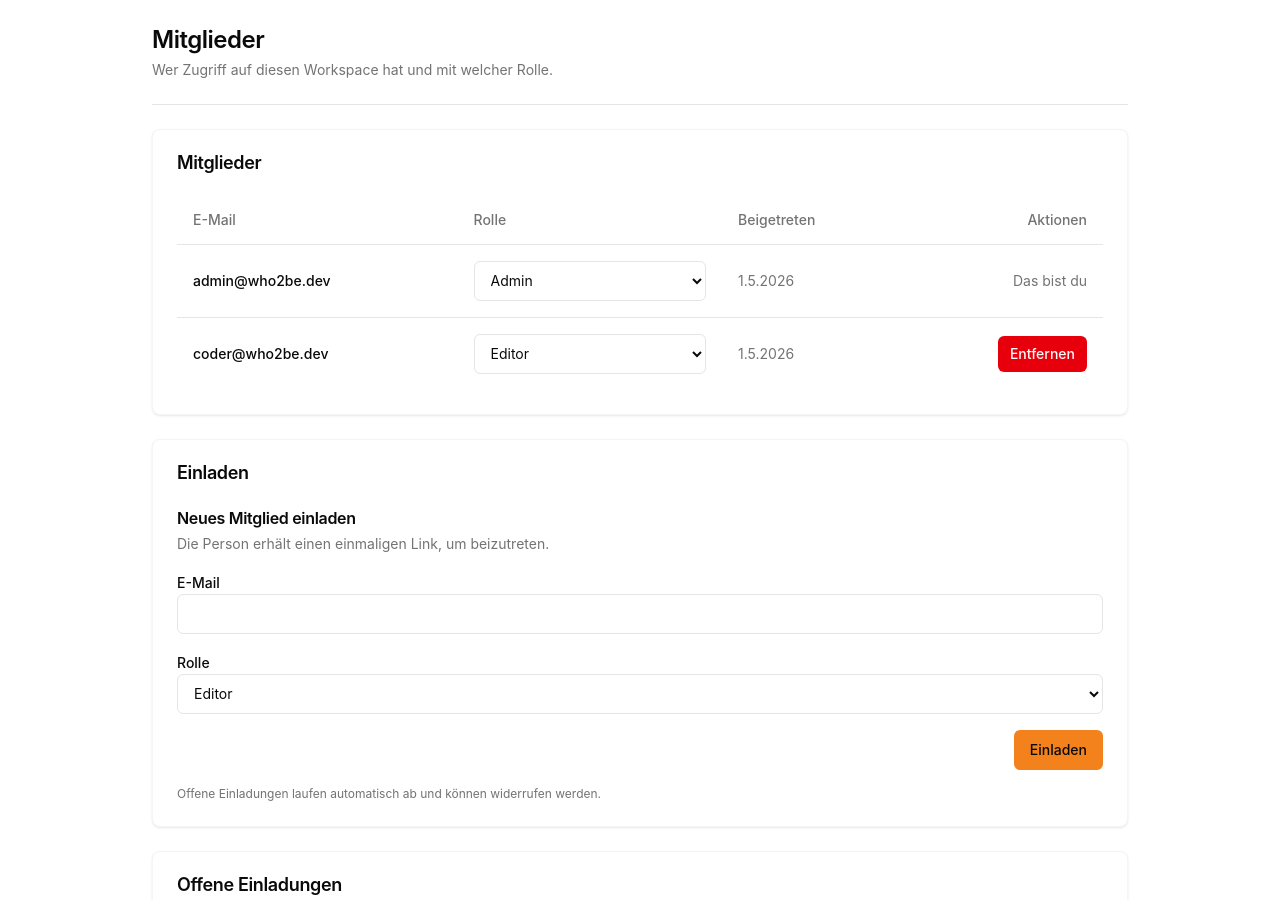
MembersPage — Mitglied entfernen › Abbrechen entfernt nicht
Step 1. Click the button "Entfernen" → (1042, 354), box [998,336,1087,372]
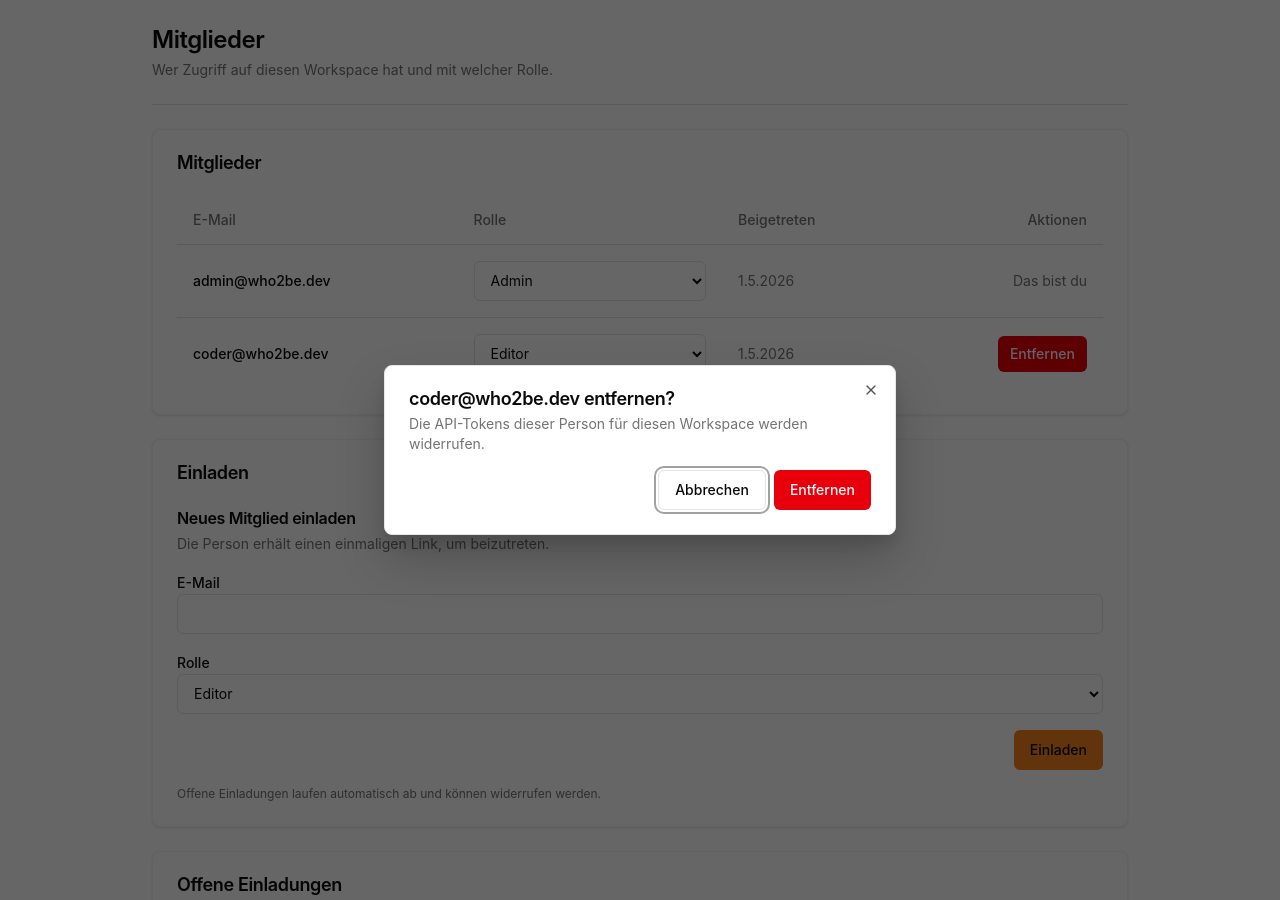
Step 2. Click the button "Abbrechen" → (712, 490), box [658,470,766,510]
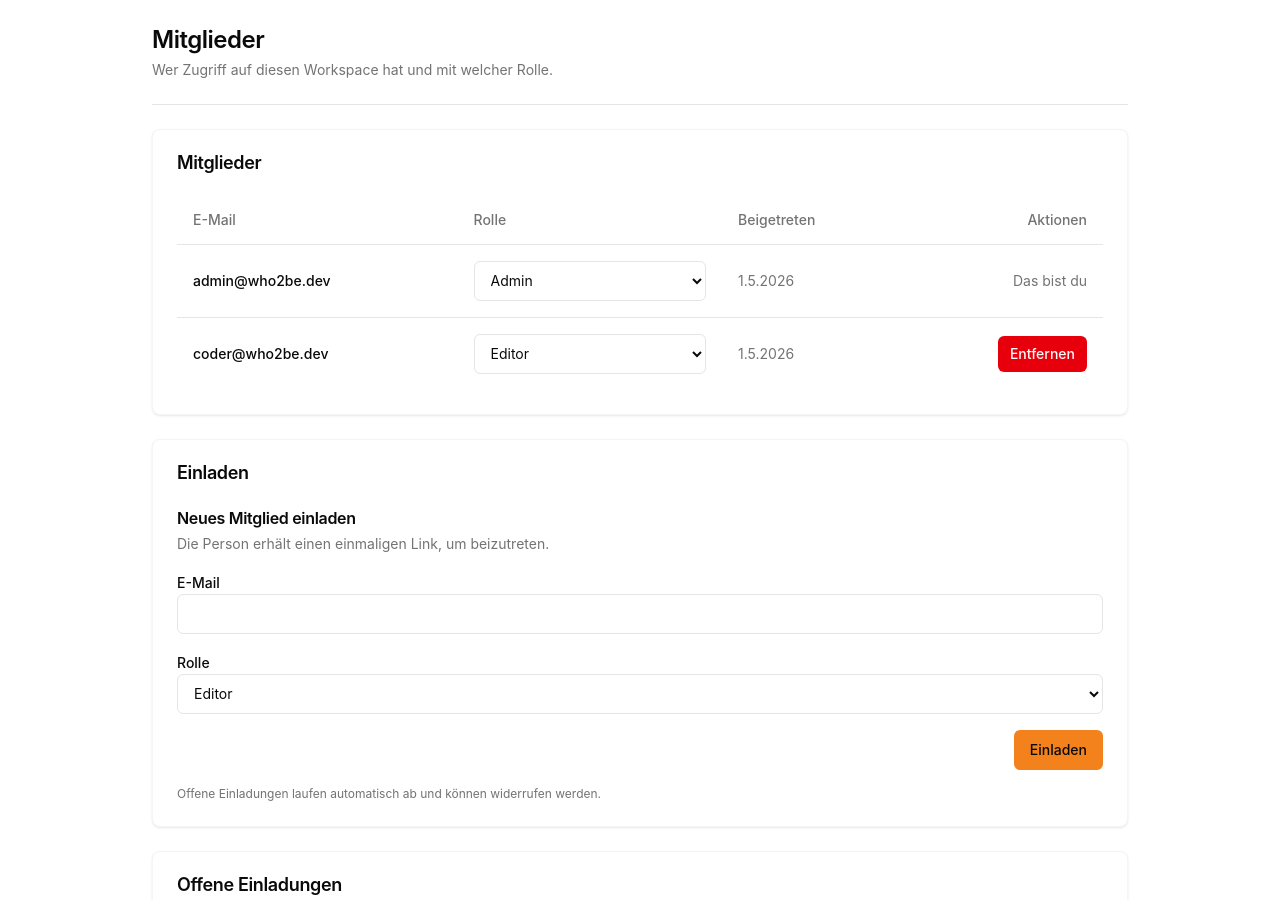
Expected: the text "coder@who2be.dev" is shown, [177,317,458,390]
Now the dialog is gone
